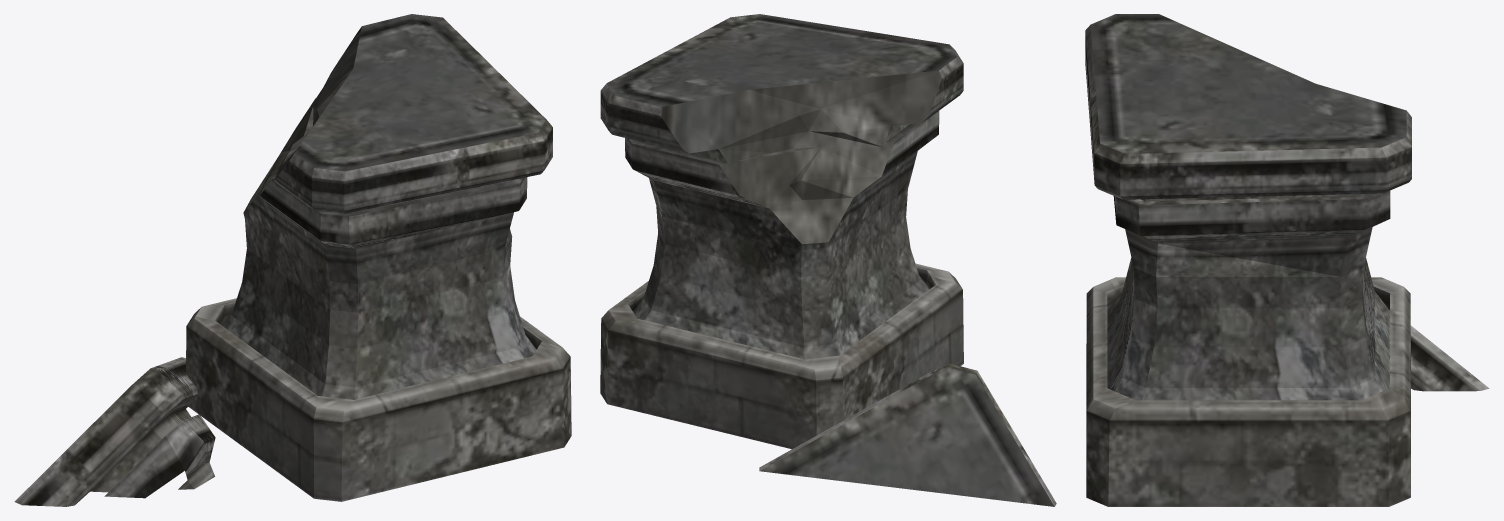
The model's file is TW2_9_ADDONS_12_17-transformed.glb.
The picture shows the model from 3 angles, left to right: view 1: azimuth 30°, elevation 25°; view 2: azimuth 150°, elevation 25°; view 3: azimuth 270°, elevation 25°; orthographic projection. The views are drawn at different scales.
Parts seen in each view (by area): view 1: default; view 2: default; view 3: default.
Part boxes in pixels (box(x1,y1,x2,y2)): default: box(14, 14, 571, 506); default: box(600, 14, 1056, 506); default: box(1085, 14, 1489, 506).
Size of the model in its own units: 3.53 by 2.64 by 2.48.
1 material, 1 textured.
